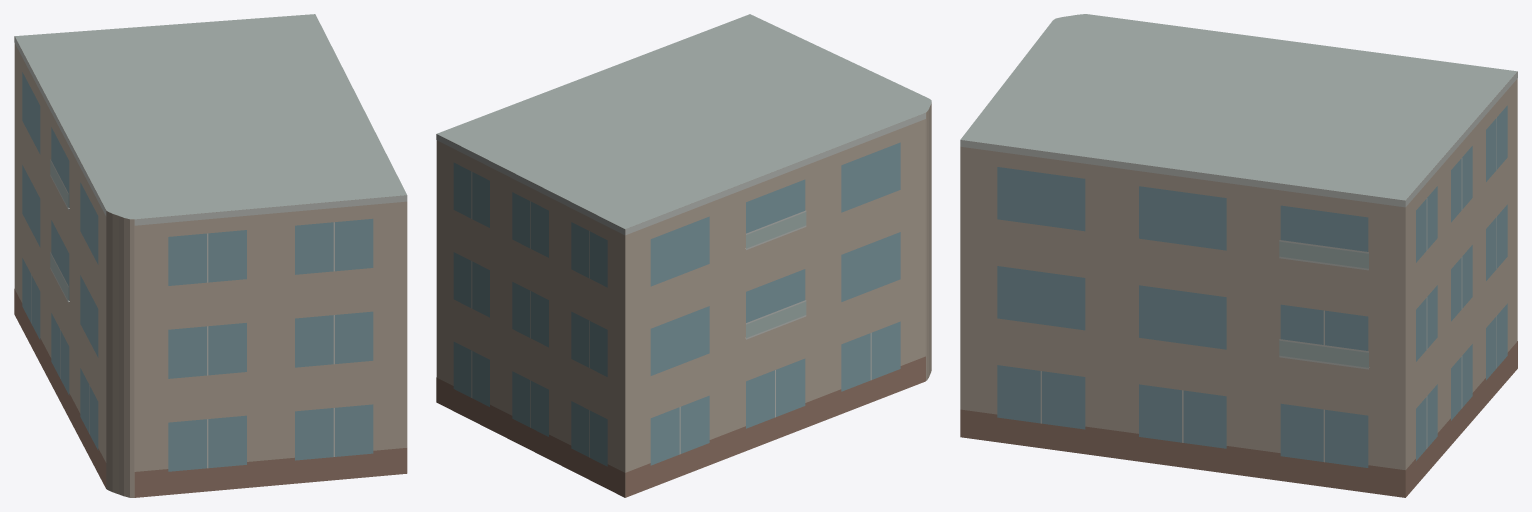
The model's file is survey-upis-32856169.glb.
3 renders of one model, left to right at view 1: azimuth 30°, elevation 25°; view 2: azimuth 150°, elevation 25°; view 3: azimuth 270°, elevation 25°, orthographic. The views are drawn at different scales.
Visible parts, largest first — view 1: survey-upis-32856169.tmp; view 2: survey-upis-32856169.tmp; view 3: survey-upis-32856169.tmp.
Part boxes in pixels (x1,y1,x2,y2): survey-upis-32856169.tmp: (14, 14, 407, 497); survey-upis-32856169.tmp: (436, 14, 931, 497); survey-upis-32856169.tmp: (960, 14, 1517, 497).
Bounding box in the file's own units: 14.27 × 10.6 × 18.02.
